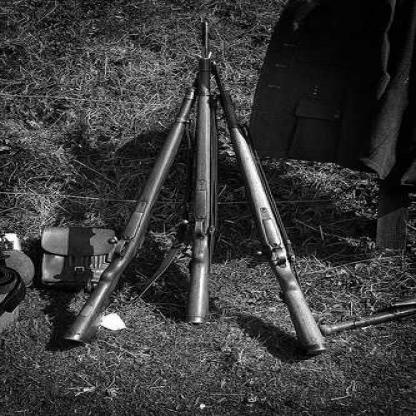rifle: (164, 14, 232, 331)
